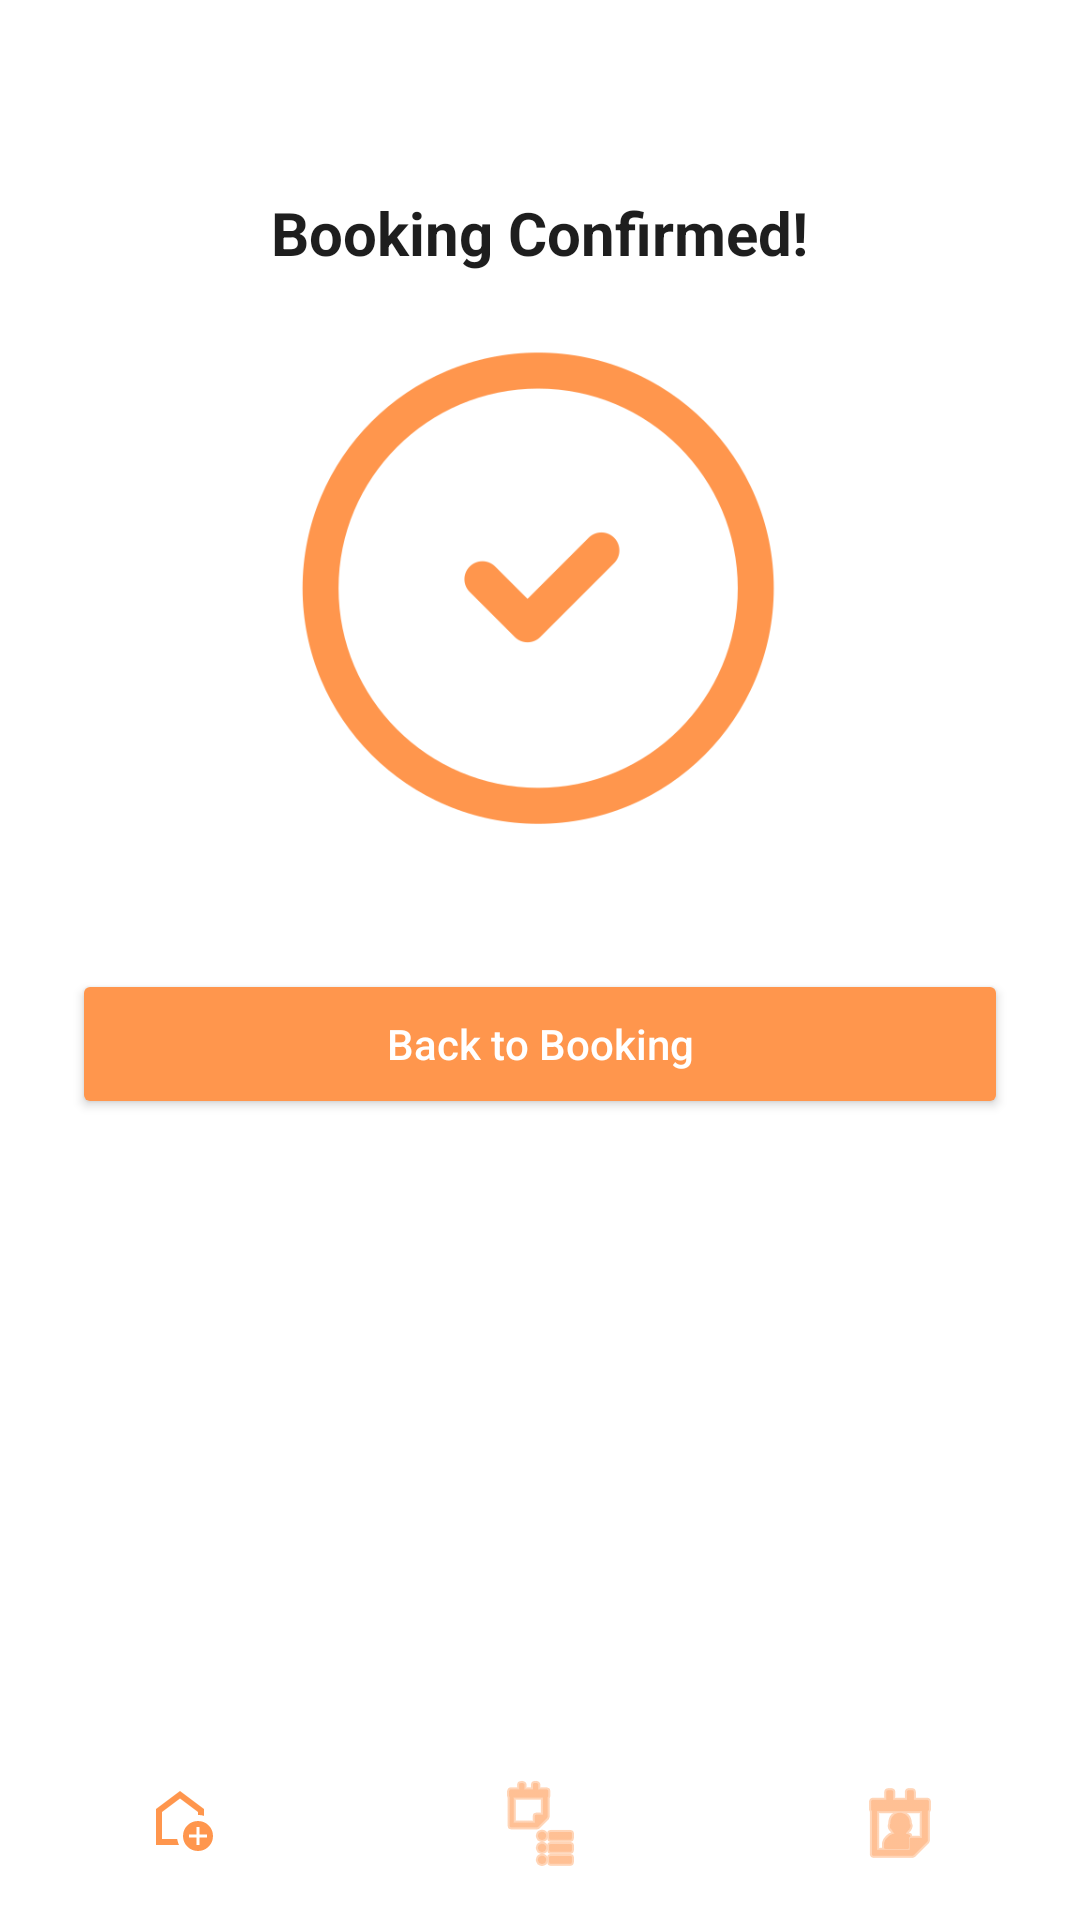

Point at icon controls on the screen. Image size 1080px×1920px, points as (x=x, y=y).
agenda: (x=540, y=1823)
calendar: (x=900, y=1823)
home: (x=184, y=1821)
